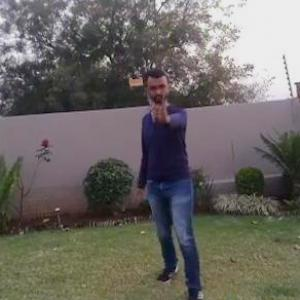takeoff-hand: (147, 94, 176, 128)
